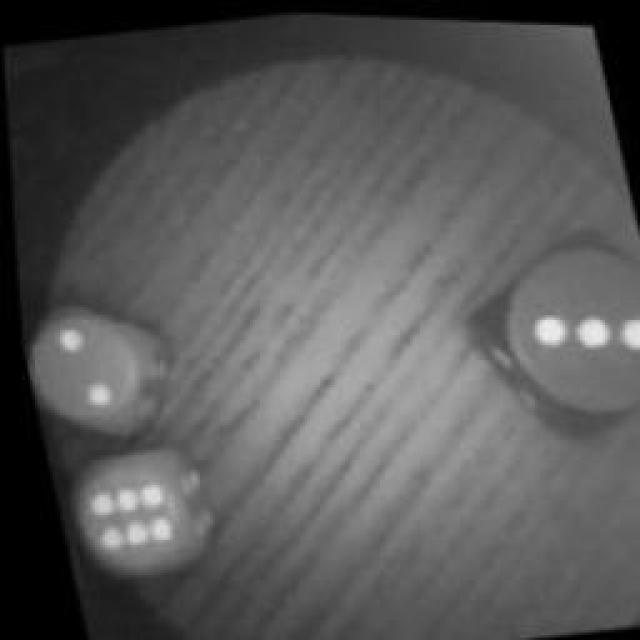dice_2: (13, 279, 178, 449)
dice_3: (447, 206, 640, 453)
dice_6: (48, 434, 218, 591)
